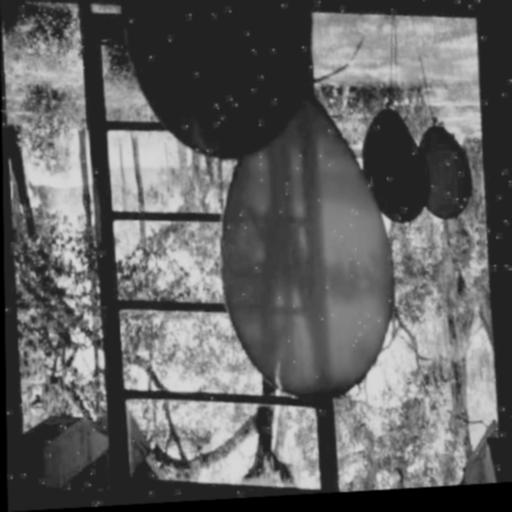balloon: (199, 59, 394, 417), (112, 0, 333, 179), (352, 100, 427, 219), (400, 103, 472, 221), (360, 90, 409, 191)
